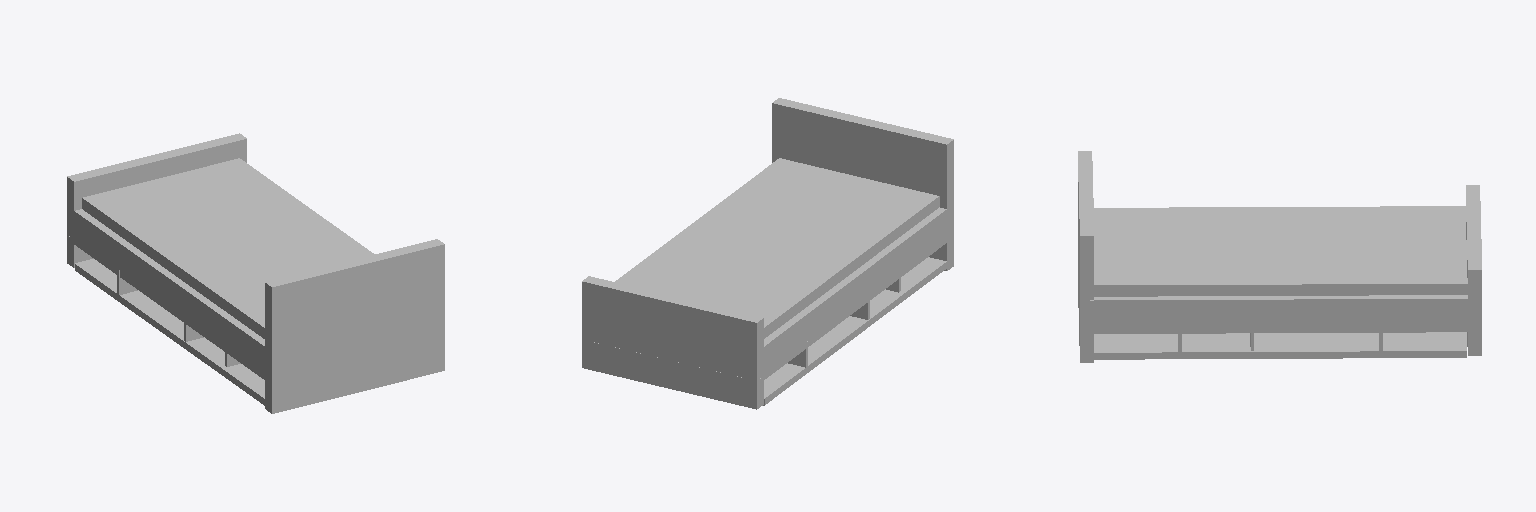
Rendered from FM_bed.obj.
The picture shows the model from 3 angles: view 1: azimuth 30°, elevation 25°; view 2: azimuth 150°, elevation 25°; view 3: azimuth 270°, elevation 25°; orthographic projection.
Parts seen in each view (by area): view 1: Cube.003, Cube.000_Cube.005, Cube.004, Cube.002_Cube.004, Cube.004_Cube.005; view 2: Cube.000_Cube.005, Cube.002_Cube.004, Cube.003, Cube.004, Cube.002, Cube.004_Cube.005; view 3: Cube.000_Cube.005, Cube.004, Cube.004_Cube.005, Cube.003, Cube.002_Cube.004.
Boxes of the visible parts, <box> form: Cube.003: <box>265,239,444,413</box>; Cube.000_Cube.005: <box>82,158,374,338</box>; Cube.004: <box>74,209,264,379</box>; Cube.002_Cube.004: <box>67,133,246,238</box>; Cube.004_Cube.005: <box>75,259,264,405</box>; Cube.000_Cube.005: <box>615,158,939,338</box>; Cube.002_Cube.004: <box>582,276,763,380</box>; Cube.003: <box>772,98,953,270</box>; Cube.004: <box>764,207,946,379</box>; Cube.002: <box>582,340,763,409</box>; Cube.004_Cube.005: <box>763,257,946,405</box>; Cube.000_Cube.005: <box>1094,206,1467,296</box>; Cube.004: <box>1090,295,1467,333</box>; Cube.004_Cube.005: <box>1092,332,1466,359</box>; Cube.003: <box>1078,151,1093,362</box>; Cube.002_Cube.004: <box>1466,185,1481,327</box>.
Size of the model in its own units: 0.9786 by 0.6657 by 1.93.